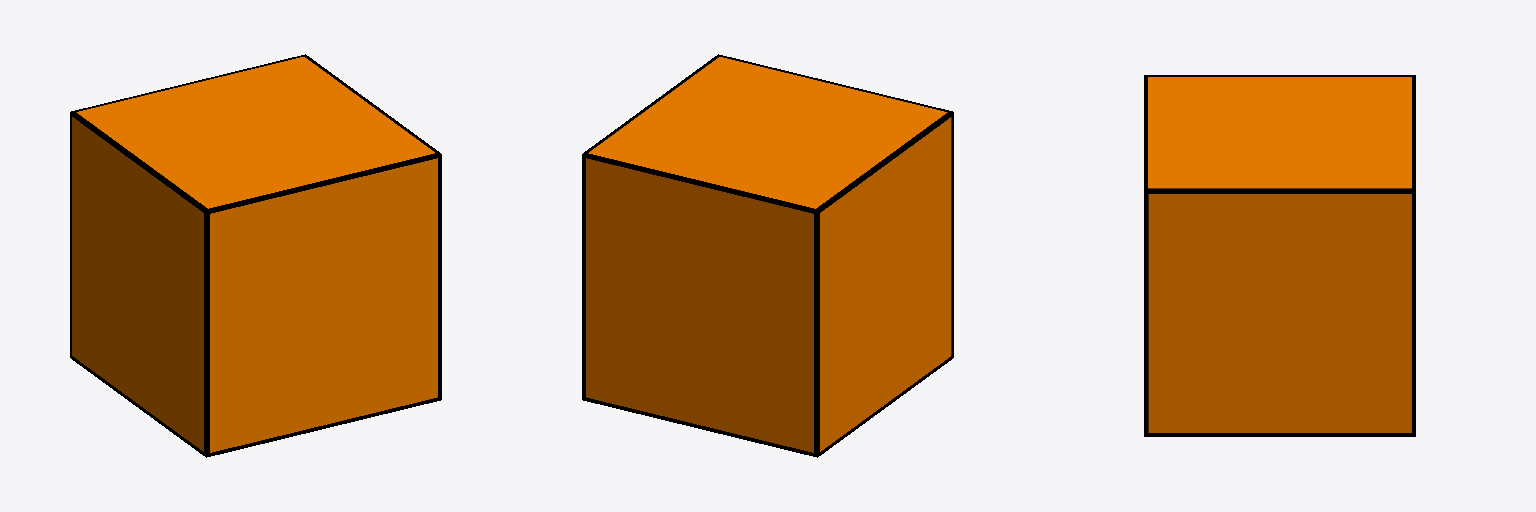
3 views of the same model, side by side, from view 1: azimuth 30°, elevation 25°; view 2: azimuth 150°, elevation 25°; view 3: azimuth 270°, elevation 25° (orthographic).
Visible parts, largest first — view 1: Cube; view 2: Cube; view 3: Cube.
Boxes of the visible parts, x1,y1,x2,y2 form: Cube: [70, 54, 441, 457]; Cube: [582, 54, 953, 457]; Cube: [1144, 75, 1415, 436].
Bounding box in the file's own units: 1 × 1 × 1.
Materials: 1 (1 with a texture image).